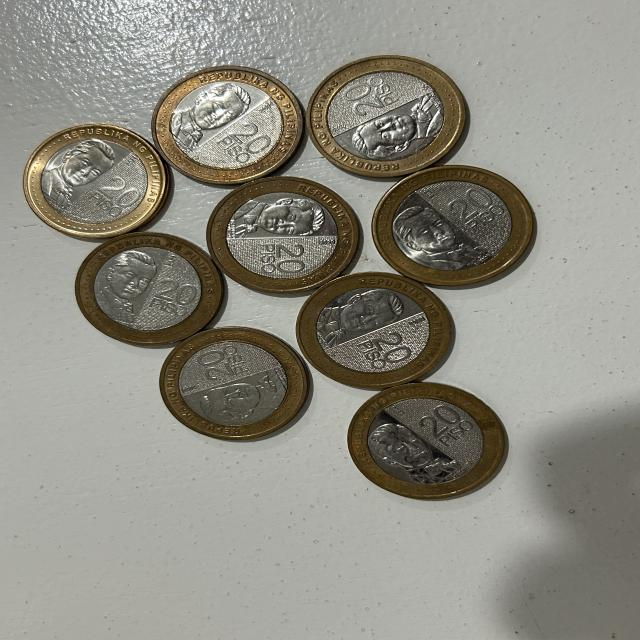20_New_Front: (409, 404, 498, 453), (435, 181, 500, 239), (244, 241, 325, 283), (214, 120, 284, 161), (193, 344, 266, 383), (152, 276, 208, 326), (355, 326, 415, 368), (342, 73, 399, 114)
